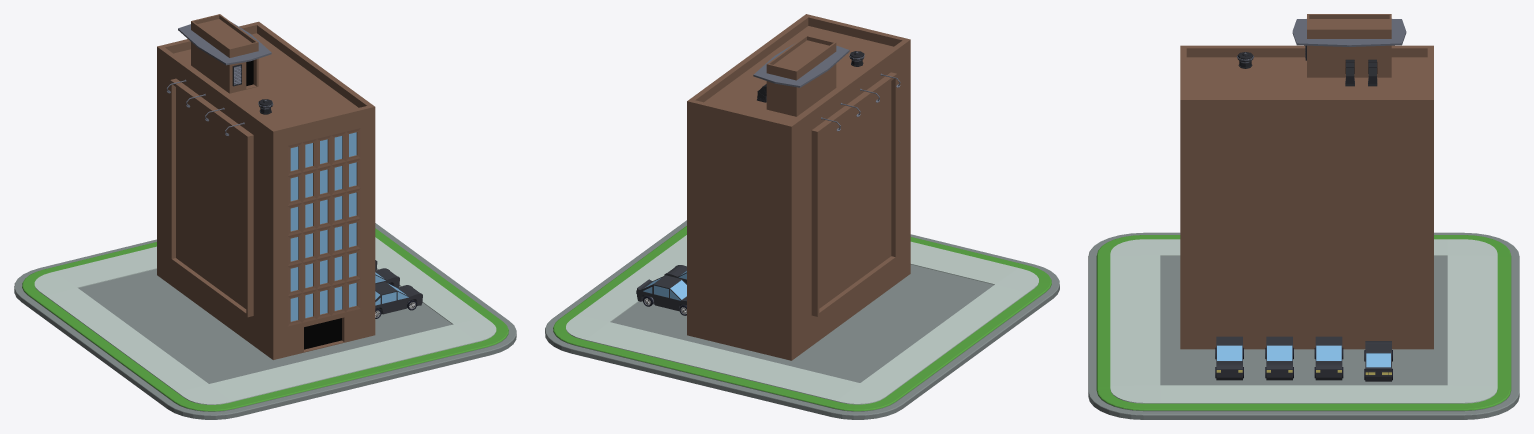
Rendered from Building.fbx.
3 views of the same model, side by side, from view 1: azimuth 30°, elevation 25°; view 2: azimuth 150°, elevation 25°; view 3: azimuth 270°, elevation 25° (orthographic). The views are drawn at different scales.
Visible parts, largest first — view 1: tiny building with outdoor media sign space, Thin building, car low poly.005; view 2: tiny building with outdoor media sign space, Thin building, car low poly.006; view 3: tiny building with outdoor media sign space, Thin building, car low poly.002, car low poly.005, car low poly, car low poly.006.
Boxes of the visible parts, x1=… form: tiny building with outdoor media sign space: x1=157, y1=14, x2=375, y2=359; Thin building: x1=14, y1=223, x2=516, y2=419; car low poly.005: x1=375, y1=282, x2=422, y2=318; tiny building with outdoor media sign space: x1=687, y1=14, x2=910, y2=360; Thin building: x1=545, y1=220, x2=1059, y2=419; car low poly.006: x1=636, y1=275, x2=686, y2=315; tiny building with outdoor media sign space: x1=1180, y1=14, x2=1433, y2=349; Thin building: x1=1088, y1=232, x2=1519, y2=419; car low poly.002: x1=1314, y1=336, x2=1343, y2=380; car low poly.005: x1=1215, y1=336, x2=1243, y2=380; car low poly: x1=1265, y1=336, x2=1293, y2=380; car low poly.006: x1=1364, y1=341, x2=1392, y2=381.
Size of the model in its own units: 1376 by 1043 by 1376.
